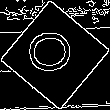O_E: (28, 31, 82, 79)
